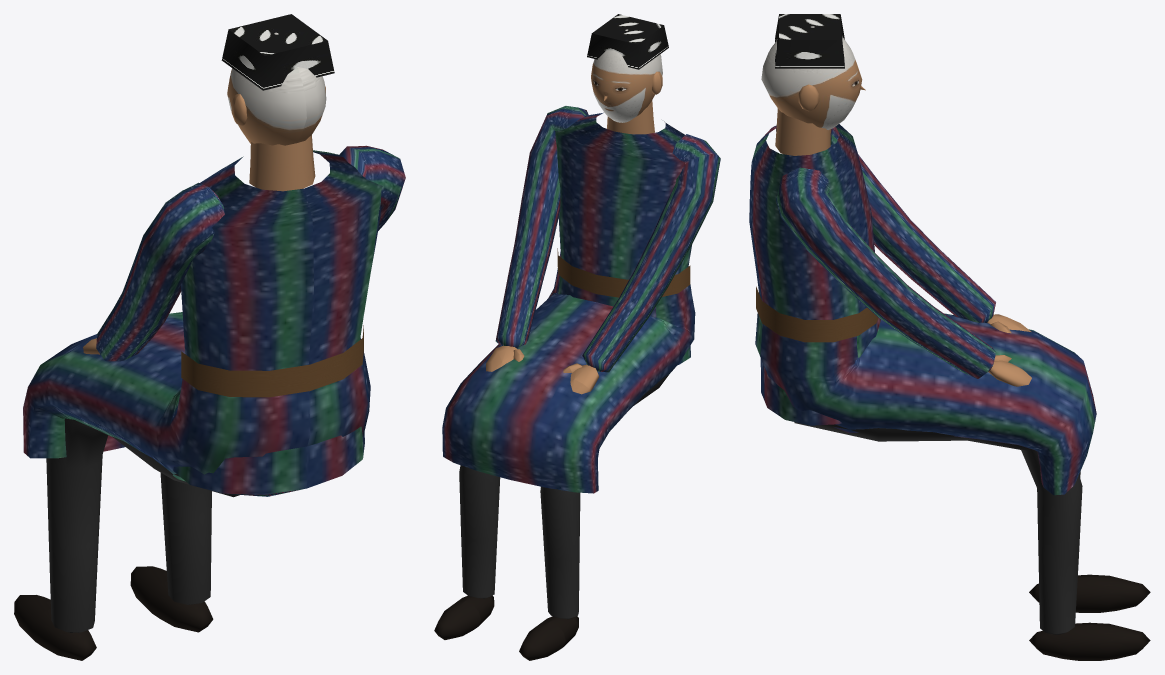
The model's file is elder.glb.
The picture shows the model from 3 angles, left to right: view 1: azimuth 30°, elevation 25°; view 2: azimuth 150°, elevation 25°; view 3: azimuth 270°, elevation 25°; orthographic projection. The views are drawn at different scales.
Parts seen in each view (by area): view 1: Body, HeadMesh; view 2: Body, HeadMesh; view 3: Body, HeadMesh.
Part boxes in pixels (x1,y1,x2,y2): Body: (14,135,405,660); HeadMesh: (221,14,334,145); Body: (434,100,720,660); HeadMesh: (587,14,668,122); Body: (749,108,1150,660); HeadMesh: (761,14,865,129).
Size of the model in its own units: 0.4918 by 1.36 by 0.8116.
Materials: 1 (1 with a texture image).
